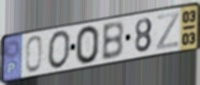0: (24, 34, 46, 75)
8: (134, 17, 153, 54)
B: (101, 20, 125, 62)
O: (75, 24, 101, 66), (47, 29, 72, 71)
Z: (155, 10, 181, 52)
